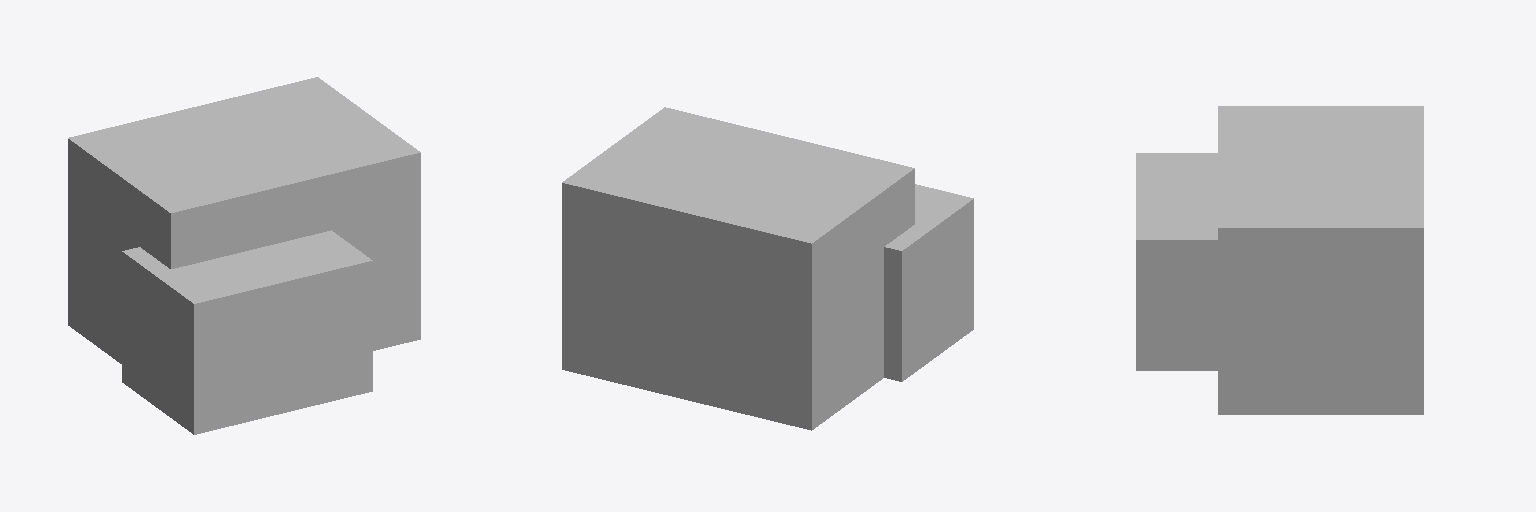
The model's file is Bush1.obj.
3 views of the same model, side by side, from view 1: azimuth 30°, elevation 25°; view 2: azimuth 150°, elevation 25°; view 3: azimuth 270°, elevation 25° (orthographic).
Parts seen in each view (by area): view 1: cube; view 2: cube; view 3: cube.
Part boxes in pixels (x1,y1,x2,y2): cube: (68, 77, 420, 434); cube: (562, 107, 973, 430); cube: (1136, 106, 1423, 414).
Bounding box in the file's own units: 0.9375 × 0.625 × 0.875.